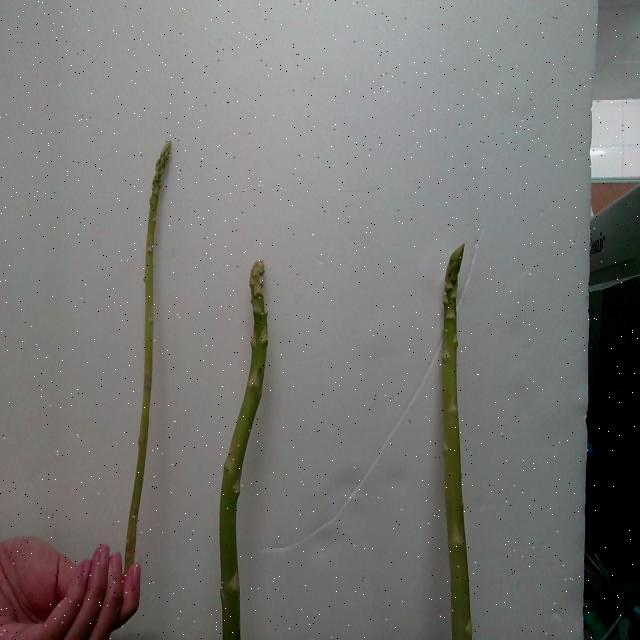aspargus: (124, 143, 173, 574), (218, 261, 269, 640), (442, 247, 479, 640)
